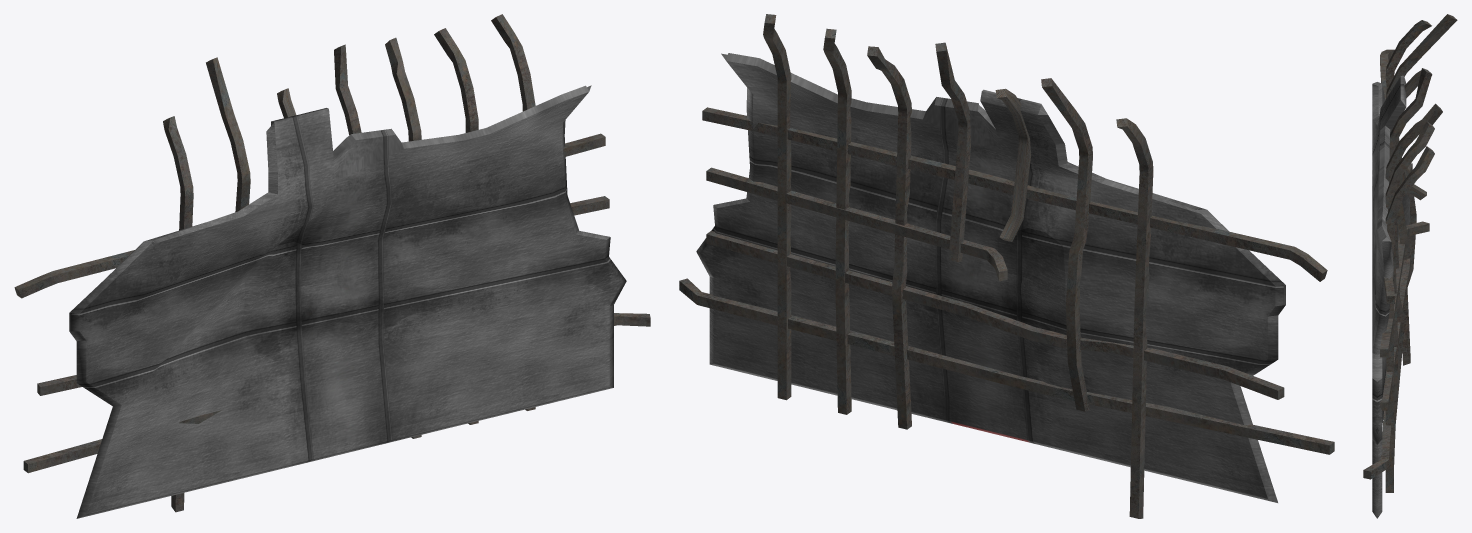
File: ShipWreckage2.fbx
3 renders of one model, left to right at view 1: azimuth 30°, elevation 25°; view 2: azimuth 150°, elevation 25°; view 3: azimuth 270°, elevation 25°, orthographic. The views are drawn at different scales.
Visible parts, largest first — view 1: pCube1, pasted__pasted__pasted__pasted__pCube2 (×4), pasted__pasted__pasted__pasted__pasted__pCube2 (×2), pasted__pasted__pasted__pCube2, pasted__pasted__pCube2; view 2: pCube1, pasted__pasted__pasted__pasted__pCube2 (×4), pasted__pasted__pasted__pasted__pasted__pCube2 (×3), pasted__pasted__pCube2, pasted__pasted__pasted__pCube2, pasted__pCube2, pCube2; view 3: pCube1, pasted__pasted__pasted__pasted__pCube2 (×4), pasted__pasted__pasted__pasted__pasted__pCube2 (×3), pCube2, pasted__pCube2, pasted__pasted__pCube2, pasted__pasted__pasted__pCube2.
Part boxes in pixels (x1,y1,x2,y2): pCube1: [69, 85, 626, 518]; pasted__pasted__pasted__pasted__pCube2 (×4): [163, 14, 535, 512]; pasted__pasted__pasted__pasted__pasted__pCube2 (×2): [206, 44, 361, 212]; pasted__pasted__pasted__pCube2: [14, 133, 605, 298]; pasted__pasted__pCube2: [23, 313, 650, 473]; pCube1: [696, 53, 1285, 502]; pasted__pasted__pasted__pasted__pCube2 (×4): [763, 14, 1153, 518]; pasted__pasted__pasted__pasted__pasted__pCube2 (×3): [935, 42, 1092, 411]; pasted__pasted__pCube2: [679, 278, 1334, 454]; pasted__pasted__pasted__pCube2: [702, 107, 1327, 281]; pasted__pCube2: [706, 230, 1284, 399]; pCube2: [706, 167, 1007, 281]; pCube1: [1372, 75, 1409, 518]; pasted__pasted__pasted__pasted__pCube2 (×4): [1385, 20, 1442, 492]; pasted__pasted__pasted__pasted__pasted__pCube2 (×3): [1385, 14, 1457, 286]; pCube2: [1380, 221, 1429, 357]; pasted__pCube2: [1380, 163, 1412, 410]; pasted__pasted__pCube2: [1363, 410, 1390, 479]; pasted__pasted__pasted__pCube2: [1380, 49, 1394, 303].
Size of the model in its own units: 10.9 by 7.03 by 1.6.
